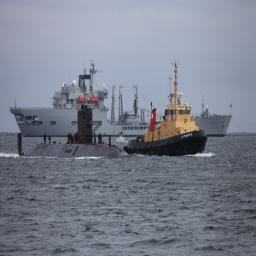submarine: (18, 108, 129, 160)
